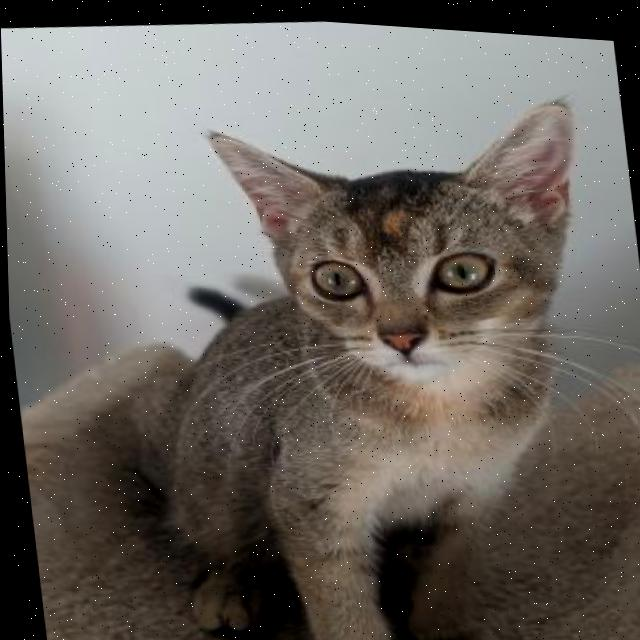Abyssinian: (89, 51, 639, 640)
